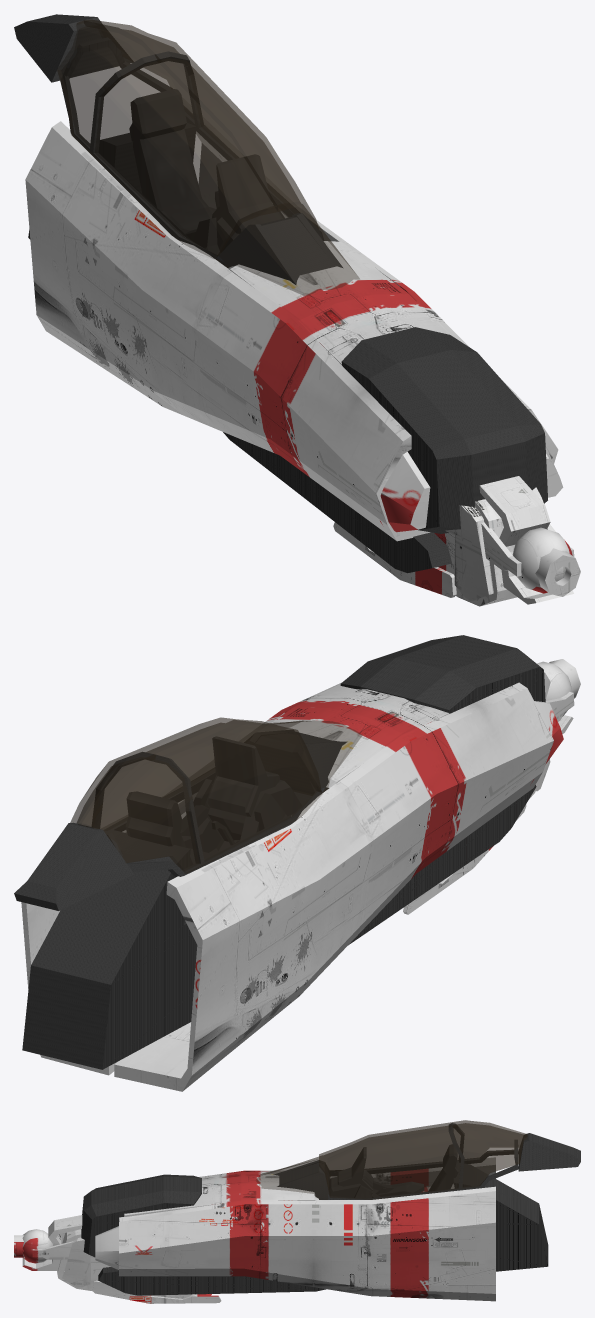
Rendered from head04.FBX.
3 views of the same model, one above another, from view 1: azimuth 30°, elevation 25°; view 2: azimuth 150°, elevation 25°; view 3: azimuth 270°, elevation 25° (orthographic). The views are drawn at different scales.
Visible parts, largest first — view 1: head04, cockpit_glass03, cockpit03; view 2: head04, cockpit_glass03, cockpit03; view 3: head04, cockpit_glass03, cockpit03.
Part boxes in pixels (bbox=[...]): head04: bbox=[25, 98, 580, 606]; cockpit_glass03: bbox=[57, 19, 359, 295]; cockpit03: bbox=[14, 14, 342, 284]; head04: bbox=[21, 635, 580, 1091]; cockpit_glass03: bbox=[70, 717, 362, 873]; cockpit03: bbox=[14, 730, 346, 910]; head04: bbox=[14, 1157, 548, 1303]; cockpit_glass03: bbox=[256, 1120, 527, 1199]; cockpit03: bbox=[273, 1123, 580, 1199].
Bounding box in the file's own units: 172 × 288 × 866.
